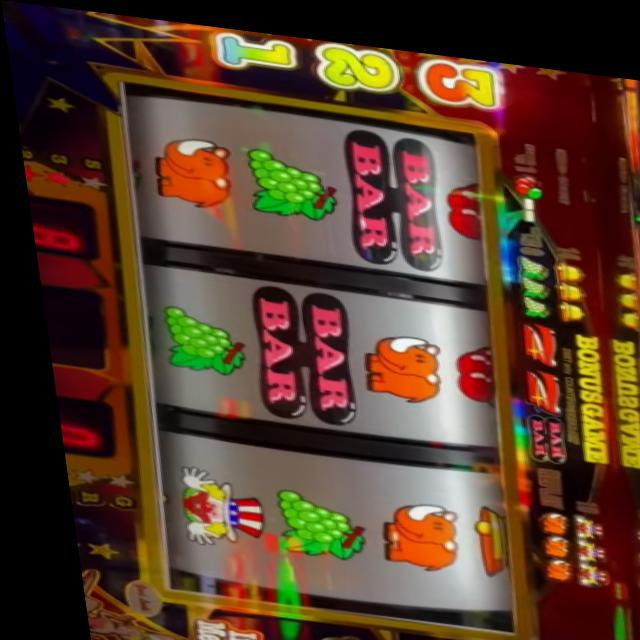bar: (238, 278, 353, 421), (337, 119, 440, 262), (513, 401, 558, 452)
bell: (456, 492, 498, 570), (549, 267, 582, 290), (550, 288, 584, 310), (548, 248, 580, 268)
cherry: (442, 330, 493, 398), (438, 166, 485, 232), (506, 157, 537, 186)
clown: (156, 462, 256, 549), (559, 548, 598, 574), (558, 502, 588, 527), (560, 525, 591, 549)
display: (97, 77, 529, 627)
elephant: (145, 129, 236, 208), (362, 489, 454, 567), (349, 322, 439, 398), (523, 521, 560, 547), (523, 497, 556, 524), (528, 544, 561, 571)
grape: (254, 481, 357, 556), (239, 140, 334, 216), (149, 301, 241, 373), (510, 242, 542, 267), (511, 284, 546, 305), (513, 266, 544, 286)
z: (510, 355, 555, 403), (509, 309, 554, 354)
